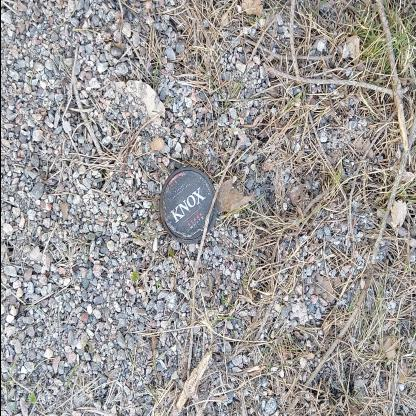plastik: (158, 167, 216, 244)
